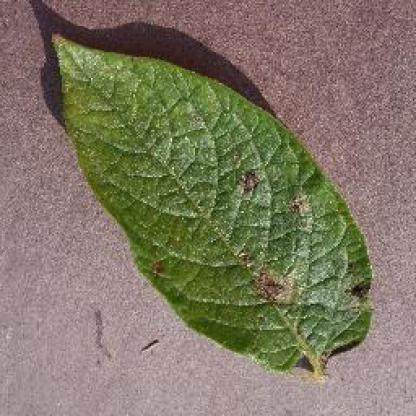bad leaf: (33, 27, 388, 384)
